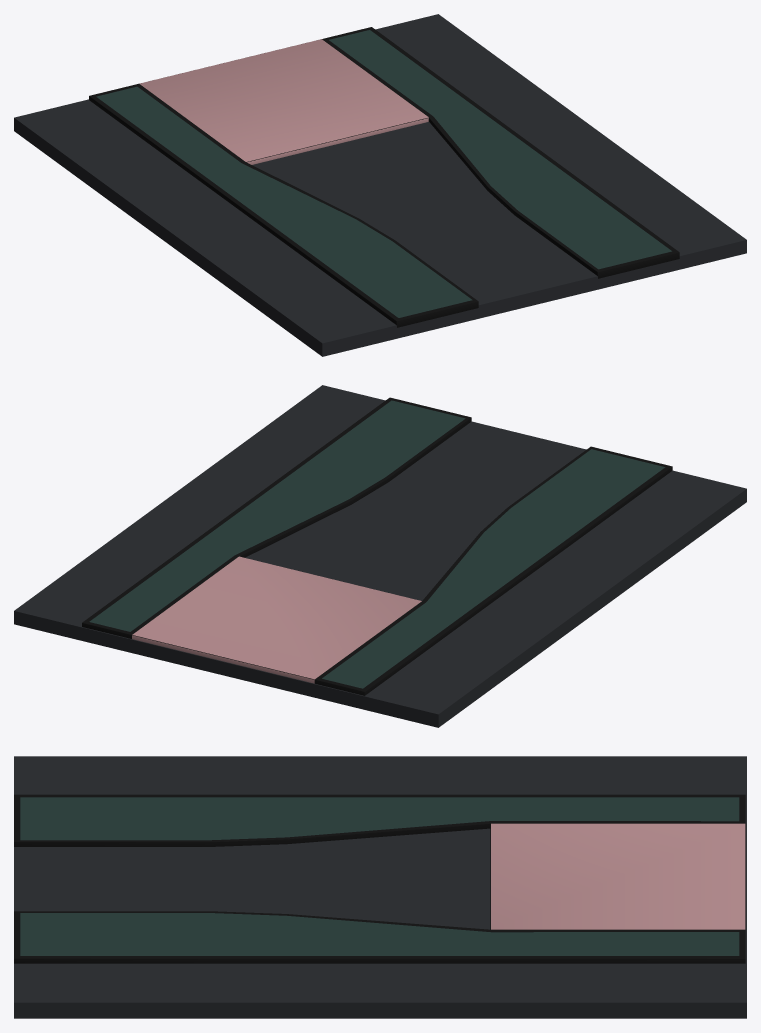
File: rooftop.FBX
The picture shows the model from 3 angles, top to bottom: view 1: azimuth 30°, elevation 25°; view 2: azimuth 150°, elevation 25°; view 3: azimuth 270°, elevation 25°; orthographic projection. The views are drawn at different scales.
Visible parts, largest first — view 1: Plafond test lp; view 2: Plafond test lp; view 3: Plafond test lp.
Boxes of the visible parts, bbox=[...] form: Plafond test lp: bbox=[14, 14, 746, 356]; Plafond test lp: bbox=[14, 385, 746, 727]; Plafond test lp: bbox=[14, 756, 746, 1018].
Size of the model in its own units: 1506 by 59.63 by 1896.
